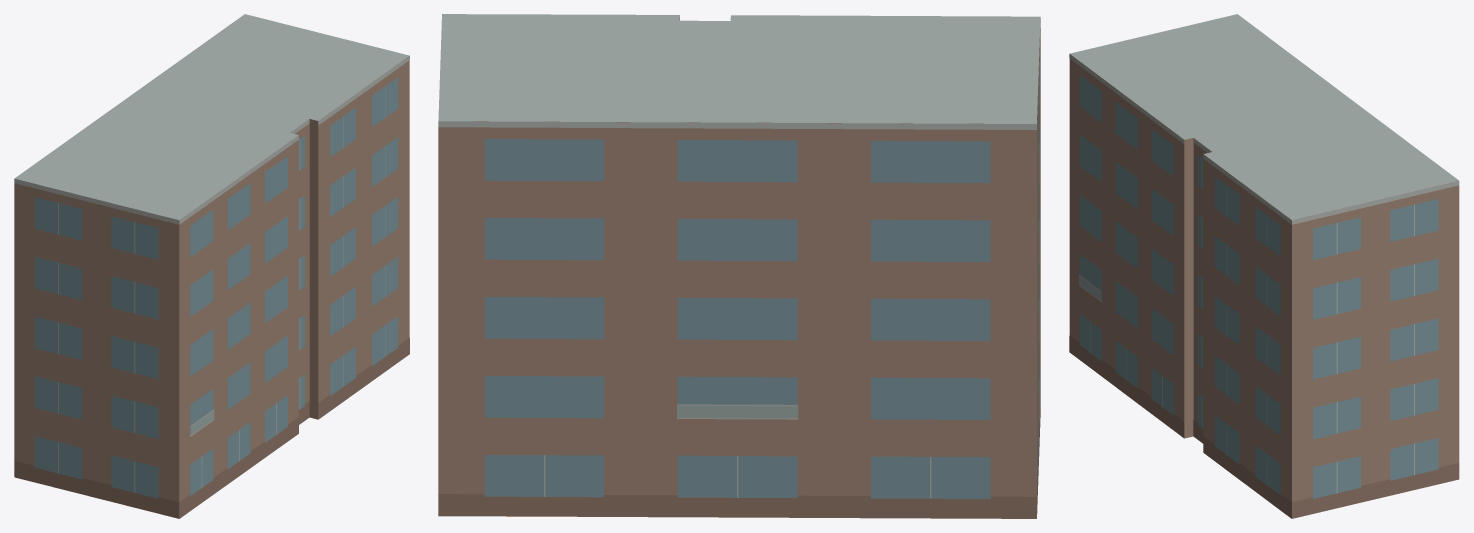
File: survey-upis-32713725.glb
3 renders of one model, left to right at view 1: azimuth 30°, elevation 25°; view 2: azimuth 150°, elevation 25°; view 3: azimuth 270°, elevation 25°, orthographic. The views are drawn at different scales.
Parts seen in each view (by area): view 1: survey-upis-32713725.tmp; view 2: survey-upis-32713725.tmp; view 3: survey-upis-32713725.tmp.
Part boxes in pixels (x1=…): survey-upis-32713725.tmp: x1=14, y1=14, x2=409, y2=518; survey-upis-32713725.tmp: x1=438, y1=14, x2=1040, y2=518; survey-upis-32713725.tmp: x1=1069, y1=14, x2=1459, y2=518.
Bounding box in the file's own units: 23.71 × 16 × 18.94.
